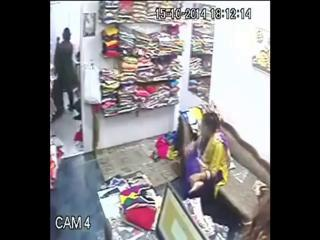Normal: (52, 28, 80, 115)
